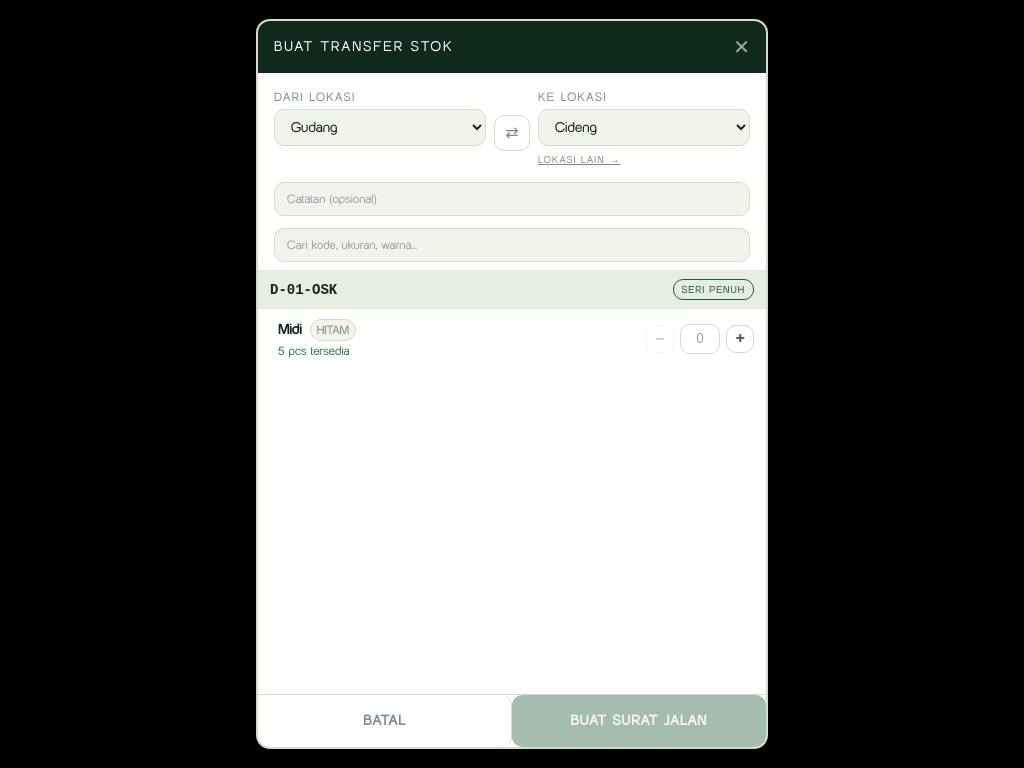
Scenario: TransferForm › Reset menghapus semua qty dalam satu kode
This screenshot has width=1024, height=768.
Click the button "+".
click(740, 339)  # box [726,325,754,353]
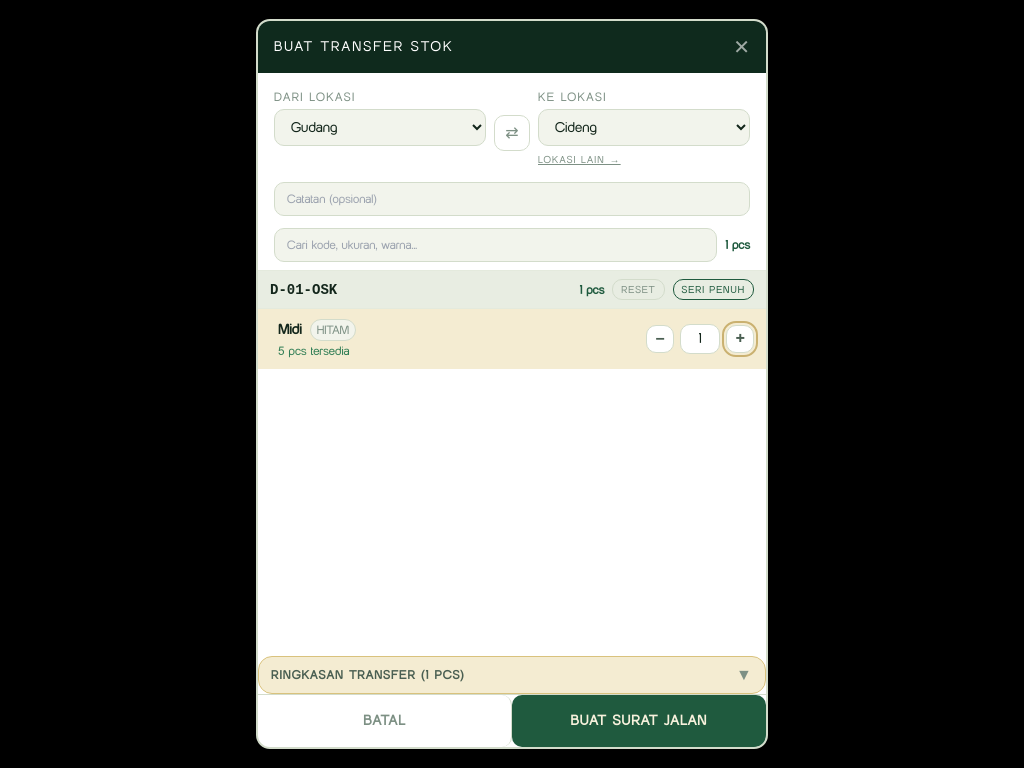
Click the button "Reset".
click(638, 290)  # box [612,279,665,300]
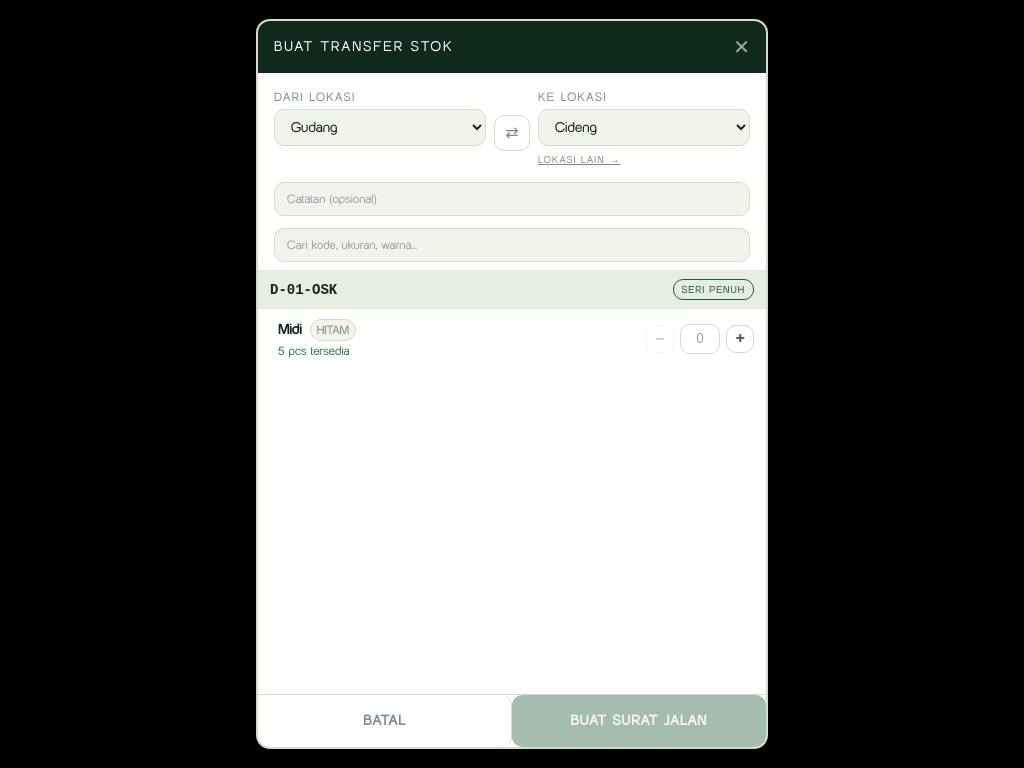
expect the number field with placeholder "0" is empty: met, box [680,324,720,354]
